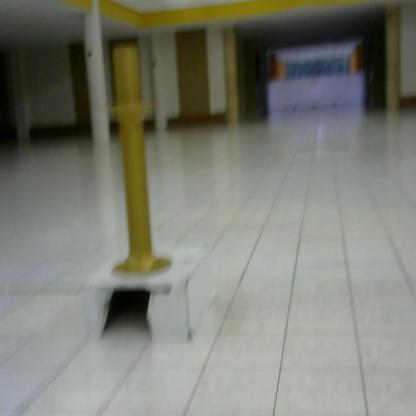pole: (100, 38, 183, 284)
